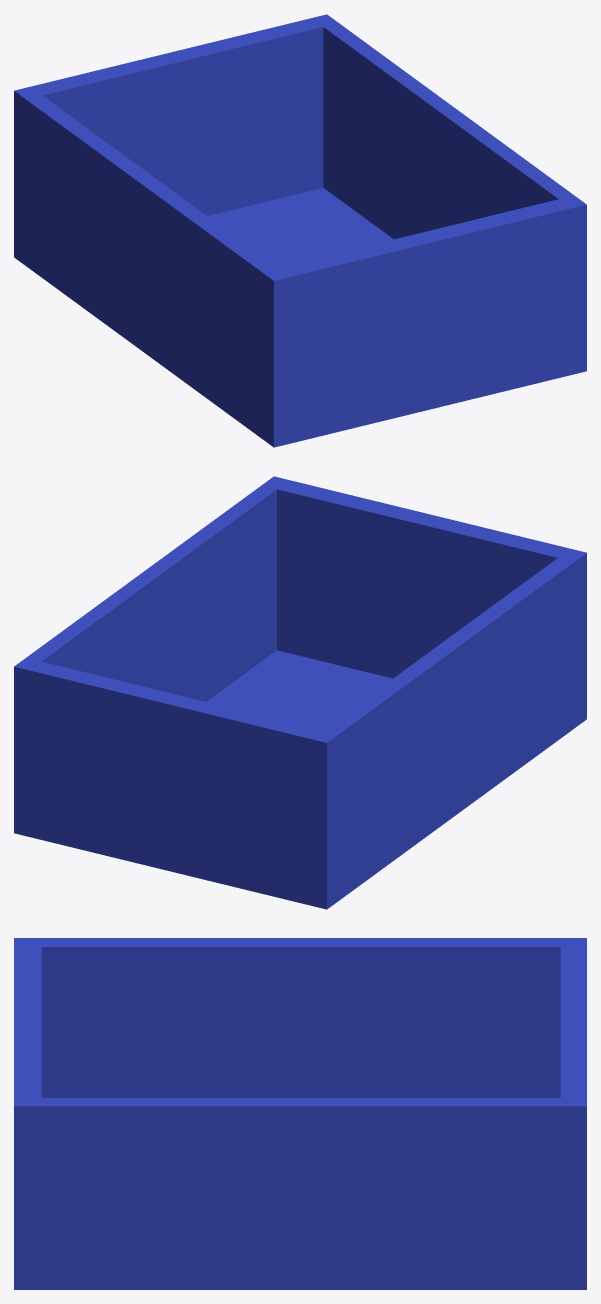
Rendered from plasticBox_YCB.dae.
The picture shows the model from 3 angles, top to bottom: view 1: azimuth 30°, elevation 25°; view 2: azimuth 150°, elevation 25°; view 3: azimuth 270°, elevation 25°; orthographic projection. The views are drawn at different scales.
Visible parts, largest first — view 1: Cube; view 2: Cube; view 3: Cube.
Boxes of the visible parts, x1,y1,x2,y2 form: Cube: [14, 14, 586, 447]; Cube: [14, 476, 586, 909]; Cube: [14, 938, 586, 1289].
Bounding box in the file's own units: 0.285 × 0.41 × 0.145.
